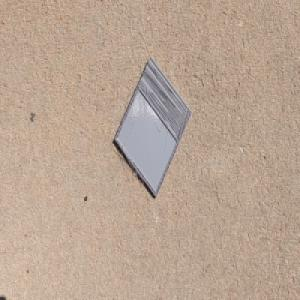PlasticPart: (114, 57, 192, 198)
